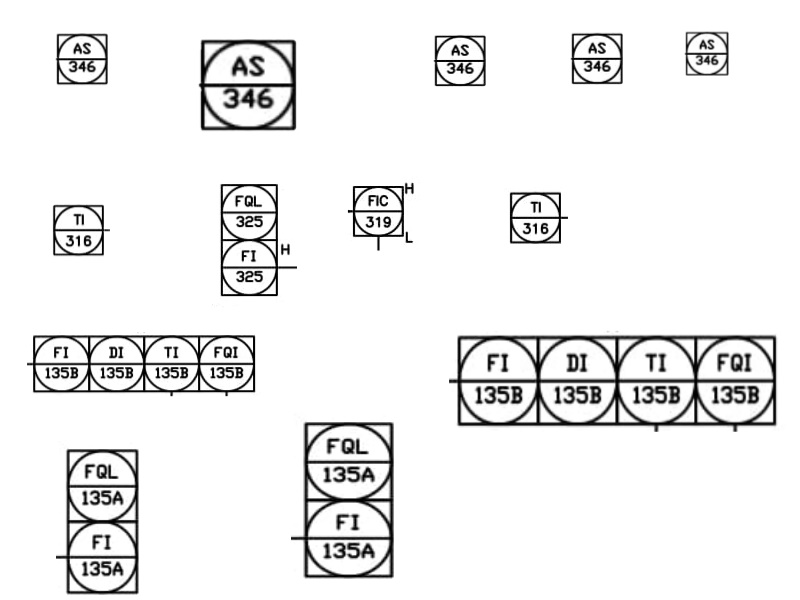Panel Instrument: (195, 32, 301, 136), (535, 331, 623, 431), (614, 329, 702, 429), (692, 329, 780, 429), (455, 334, 543, 430), (302, 494, 396, 580), (303, 418, 397, 502), (63, 443, 141, 523), (64, 520, 141, 596), (220, 181, 279, 242), (219, 239, 278, 300), (32, 334, 91, 395), (86, 331, 145, 392), (141, 331, 200, 392), (198, 333, 257, 394), (53, 30, 110, 90), (432, 31, 489, 91), (569, 28, 626, 88), (51, 199, 108, 259), (507, 189, 564, 247), (349, 180, 406, 238), (680, 25, 731, 80)
